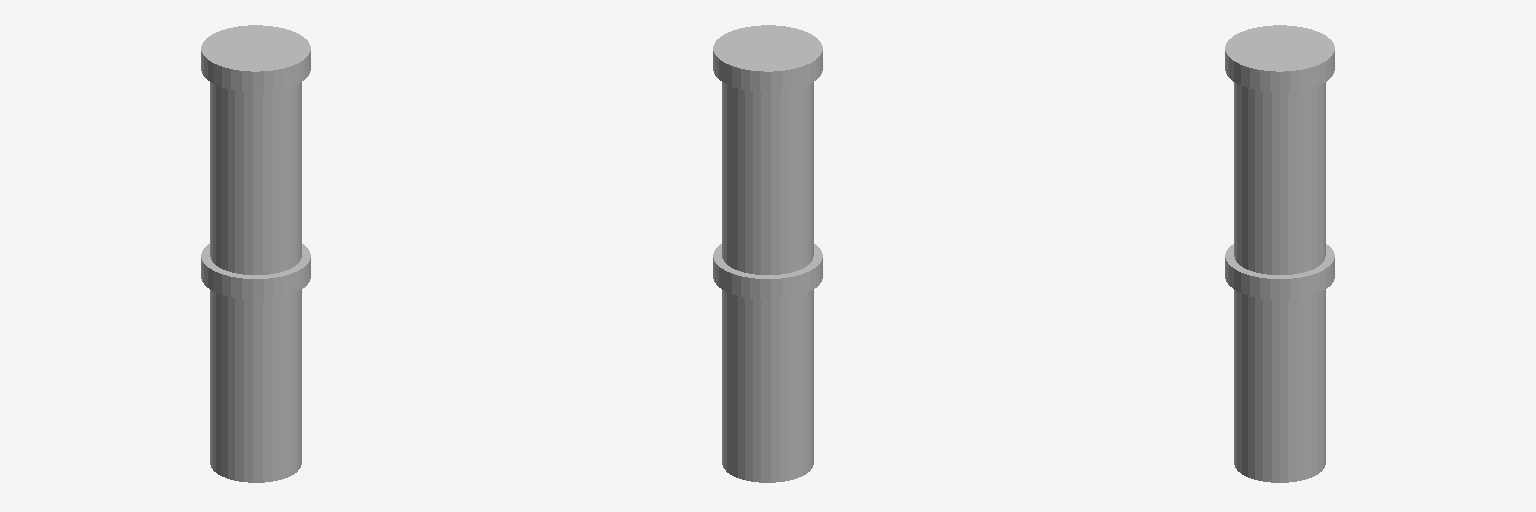
File: Pipe.obj
3 views of the same model, side by side, from view 1: azimuth 30°, elevation 25°; view 2: azimuth 150°, elevation 25°; view 3: azimuth 270°, elevation 25° (orthographic).
Visible parts, largest first — view 1: object_1; view 2: object_1; view 3: object_1.
Boxes of the visible parts, x1,y1,x2,y2 form: object_1: [201, 25, 310, 482]; object_1: [713, 25, 822, 482]; object_1: [1225, 25, 1334, 482].
Bounding box in the file's own units: 0.24 × 1 × 0.24.